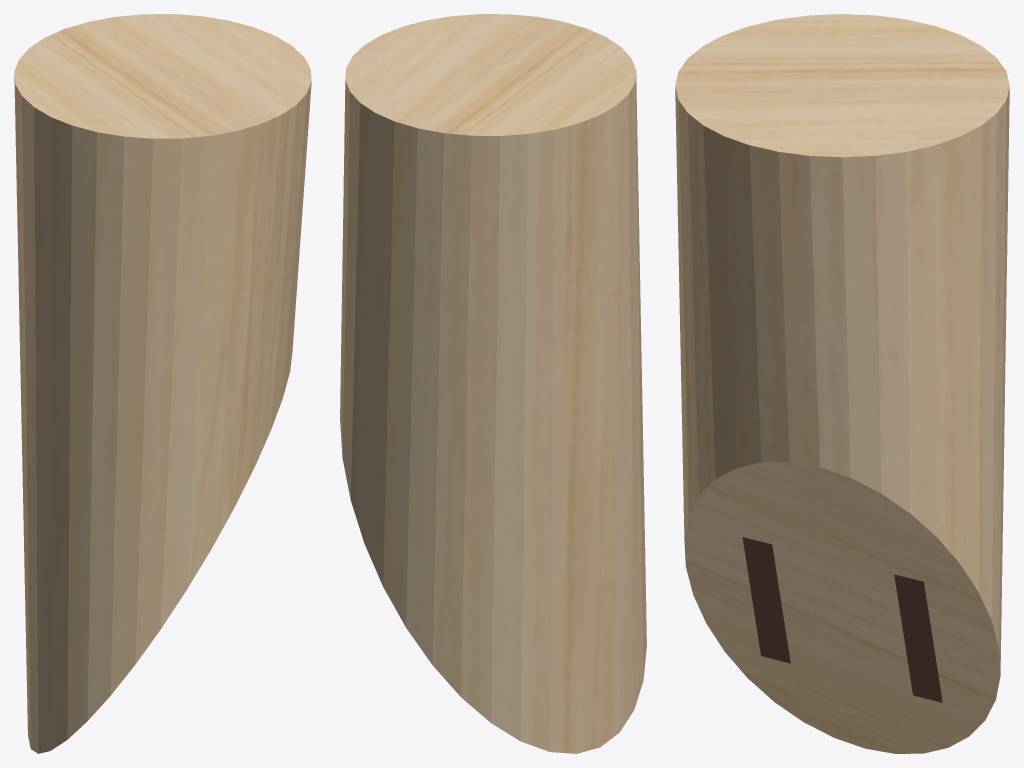
The model's file is pin11.glb.
3 renders of one model, left to right at view 1: azimuth 30°, elevation 25°; view 2: azimuth 150°, elevation 25°; view 3: azimuth 270°, elevation 25°, orthographic. The views are drawn at different scales.
Visible parts, largest first — view 1: 円柱.007; view 2: 円柱.007; view 3: 円柱.007.
Boxes of the visible parts, box(x1,y1,x2,y2) form: 円柱.007: box(14, 14, 311, 753); 円柱.007: box(340, 14, 646, 753); 円柱.007: box(675, 14, 1009, 753).
Size of the model in its own units: 1.16 by 2.79 by 1.16.
Materials: 2 (1 with a texture image).
